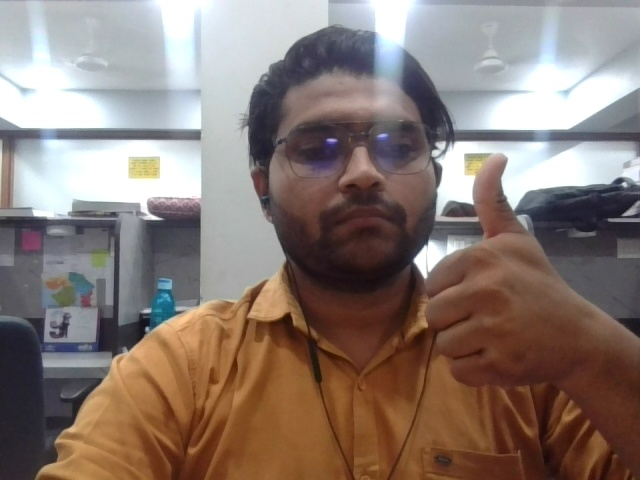ThumbsUp: (414, 154, 577, 398)
